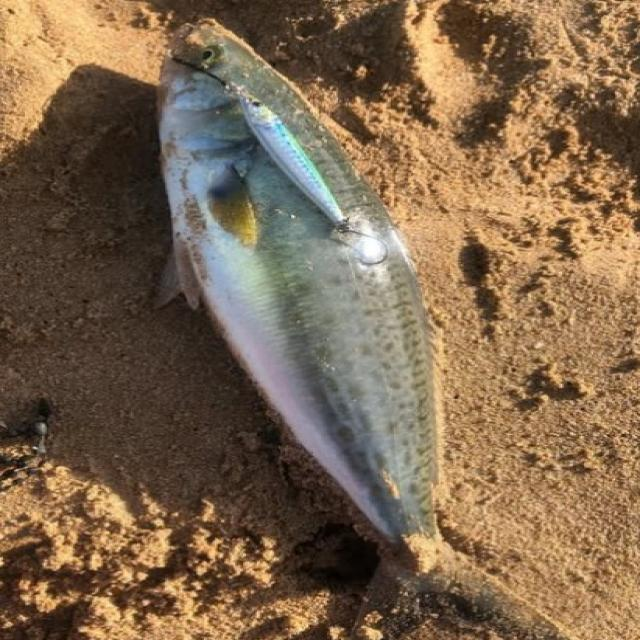Australian Salmon: (101, 11, 563, 640)
